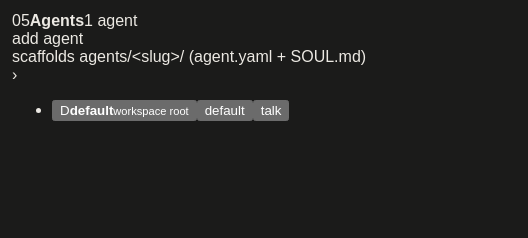
Test case: AgentsTab · card import (§5) › disables BOTH doors while an import is in flight
Click the button "add agent scaffolds agents/<slug>/ (agent.yaml + SOUL.md) ›" at {"x": 189, "y": 56}, box [12, 30, 366, 83]
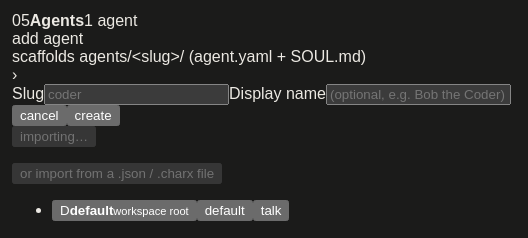
Expected: the button "importing…" is disabled, [12, 126, 96, 147]
Expected: the button "or import from a .json / .charx file" is disabled, [12, 163, 222, 184]
